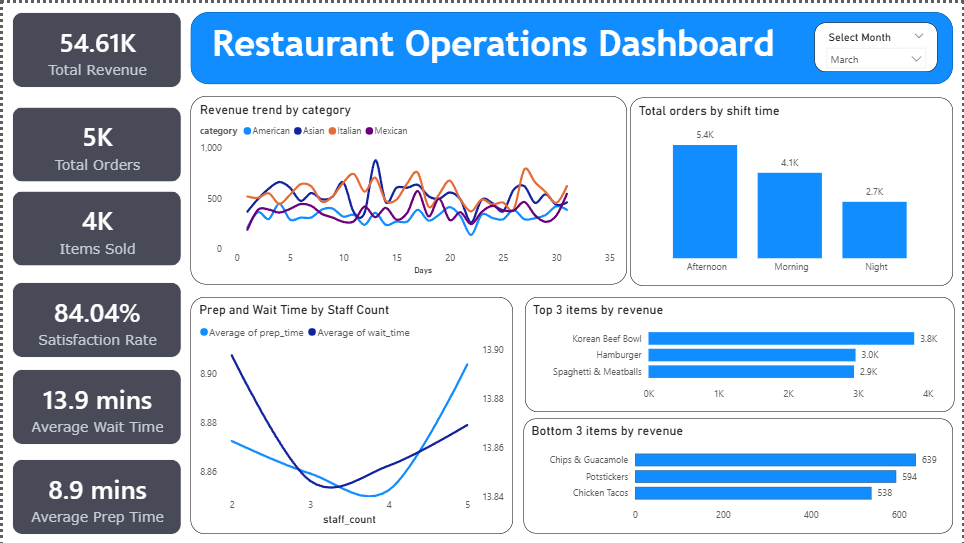

What the dashboard file says about the page in this screenshot:
{"tool":"powerbi","page":{"name":"Page 1","canvas":[1280,720],"ordinal":0},"visuals":[{"type":"lineChart","fields":{"Category":["restaurant_operations_analytics order_details.order_date.Variation.Date Hierarchy.Day"],"Y":["_measures.Total_revenue"],"Series":["restaurant_operations_analytics menu_items.category"]},"box":[249.5,124.7,582.1,251.3],"z":0},{"type":"barChart","title":"Top 3 items by revenue","fields":{"Category":["restaurant_operations_analytics menu_items.item_name"],"Y":["_measures.Total_revenue"]},"box":[695.4,391.2,572.6,153.1],"z":1000},{"type":"barChart","title":"Bottom 3 items by revenue","fields":{"Category":["restaurant_operations_analytics menu_items.item_name"],"Y":["_measures.Total_revenue"]},"box":[693.5,553.7,572.6,153.1],"z":2000},{"type":"cardVisual","fields":{"Data":["_measures.Total_revenue"]},"box":[0,0,250,125],"z":3000},{"type":"cardVisual","fields":{"Data":["_measures.Total_orders"]},"box":[0,125,250,125],"z":4000},{"type":"cardVisual","fields":{"Data":["_measures.Average Prep Time"]},"box":[0,595,250,125],"z":5000},{"type":"cardVisual","fields":{"Data":["_measures.Average Wait Time"]},"box":[0,475,250,125],"z":6000},{"type":"cardVisual","fields":{"Data":["_measures.satisfaction_rate"]},"box":[0,360,250,125],"z":7000},{"type":"cardVisual","fields":{"Data":["_measures.Total_items_sold"]},"box":[0,237.5,250,125],"z":8000},{"type":"lineChart","title":"Staff_count vs Time","fields":{"Y":["Avg(restaurant_operations_analytics operational_metrices.prep_time)"],"Y2":["Avg(restaurant_operations_analytics operational_metrices.wait_time)"],"Category":["restaurant_operations_analytics staffing_metrices.staff_count"]},"box":[250,391.7,430,315.8],"z":9000},{"type":"clusteredColumnChart","title":"total orders by shift time","fields":{"Y":["CountNonNull(restaurant_operations_analytics operational_metrices.order_id)"],"Category":["restaurant_operations_analytics staffing_metrices.shift_time"]},"box":[835.3,126.6,430.9,251.3],"z":10000},{"type":"shape","box":[249.5,11.3,1016.7,96.4],"z":10001},{"type":"textbox","box":[274,20.8,971.3,86.9],"z":10002}]}

Visuals, with their boxes in screenshot pixels (x1, y1, x2, y2), scaled from the page's 1280x720 canvas onto the 964x543 screenshot:
lineChart - restaurant_operations_analytics order_details.order_date.Variation.Date Hierarchy.Day x _measures.Total_revenue: [188, 94, 626, 284]
"Top 3 items by revenue" barChart: [524, 295, 955, 410]
"Bottom 3 items by revenue" barChart: [522, 418, 954, 533]
cardVisual - _measures.Total_revenue: [0, 0, 188, 94]
cardVisual - _measures.Total_orders: [0, 94, 188, 189]
cardVisual - _measures.Average Prep Time: [0, 449, 188, 542]
cardVisual - _measures.Average Wait Time: [0, 358, 188, 452]
cardVisual - _measures.satisfaction_rate: [0, 272, 188, 366]
cardVisual - _measures.Total_items_sold: [0, 179, 188, 273]
"Staff_count vs Time" lineChart: [188, 295, 512, 534]
"total orders by shift time" clusteredColumnChart: [629, 95, 954, 285]
shape: [188, 9, 954, 81]
textbox: [206, 16, 938, 81]
